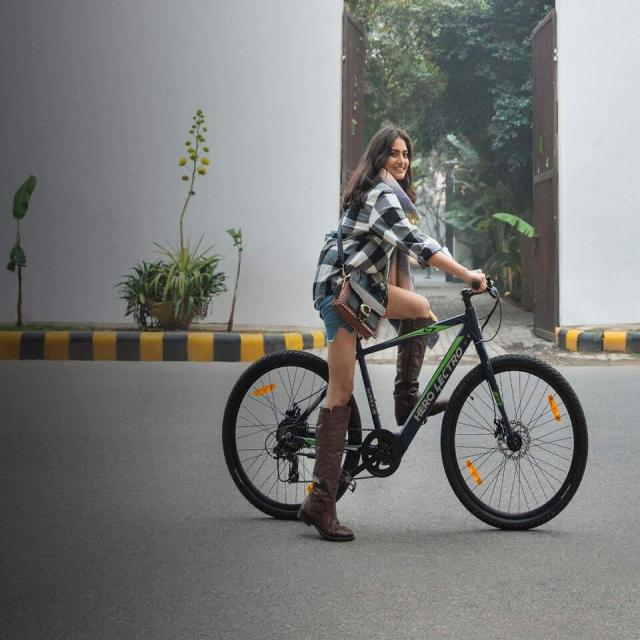bicycle: (222, 125, 588, 540)
